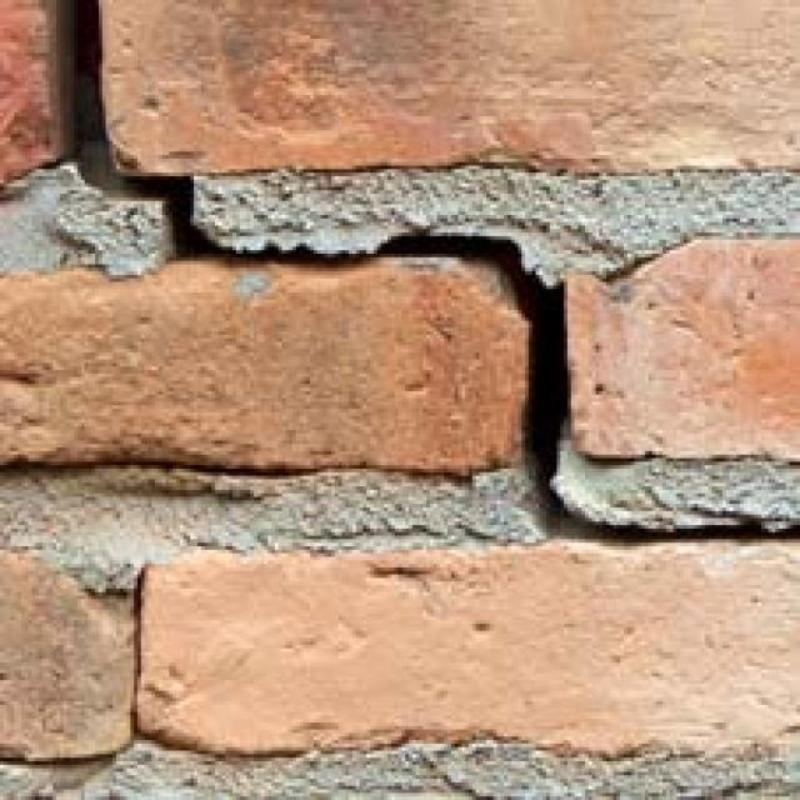crack: (75, 1, 800, 544)
